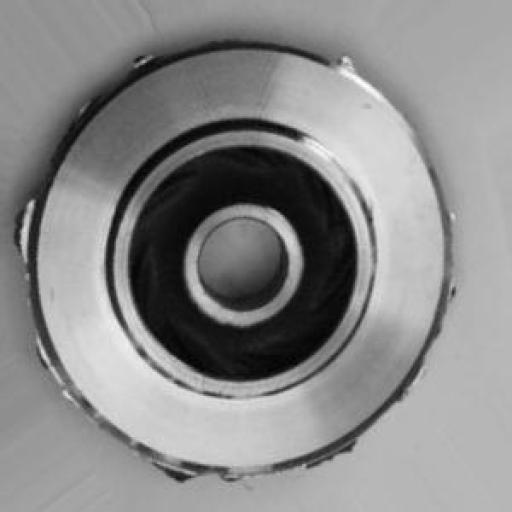defect: (12, 22, 468, 486)
